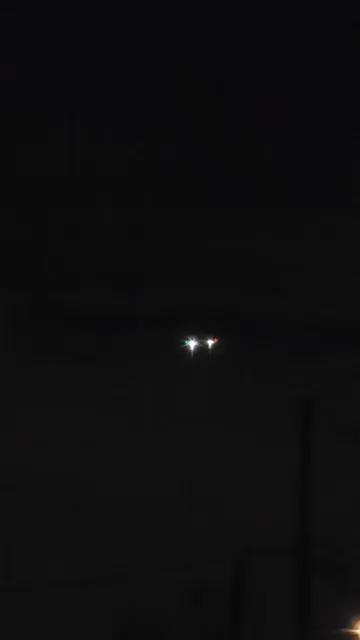Plane: (161, 295, 237, 384)
